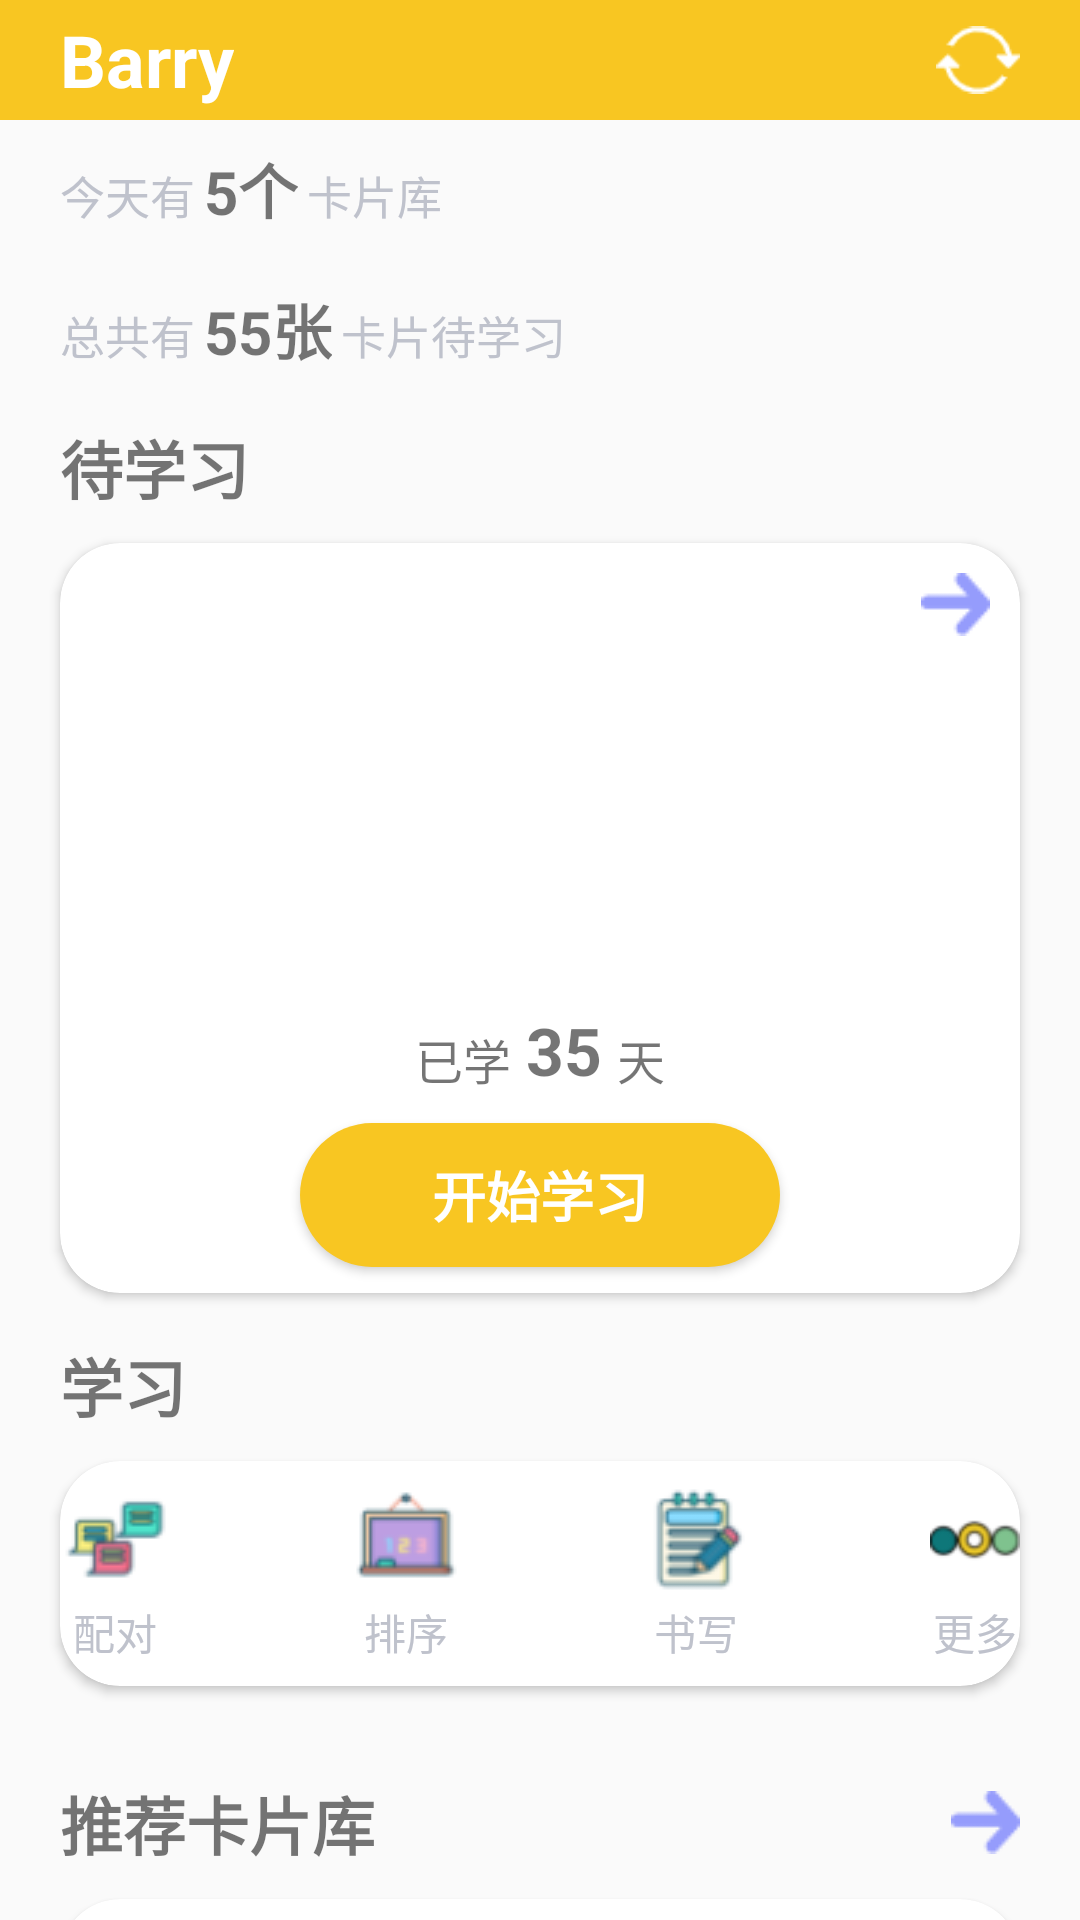

Named icons in this screenshot (1080 × 1920) and their centers, point (x, y):
reset: point (978, 60)
